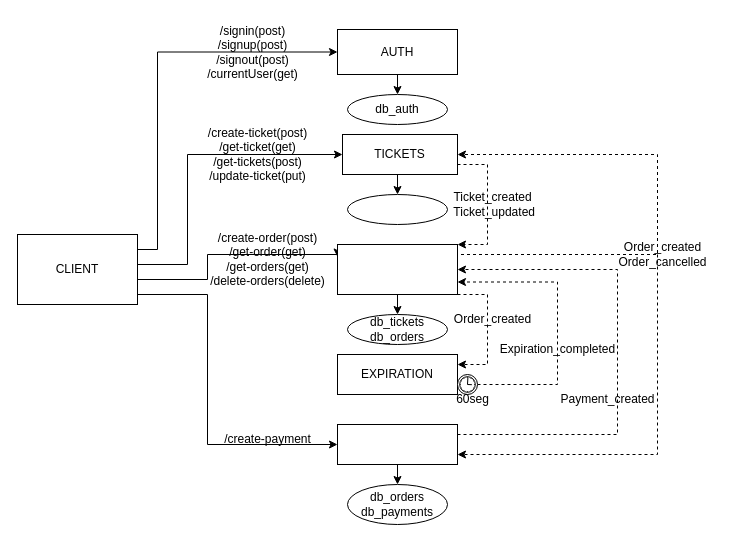
Some shapes in this 735 by 542 pixel diagram are drawn without their labels. Here are the shapes that lost their labels. From the top down, the centre of each, then its label:
point (397, 209): db_tickets
point (397, 269): ORDERS
point (397, 444): PAYMENTS
